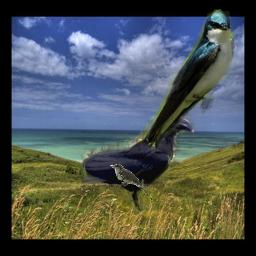Crow: (81, 110, 195, 211)
Cuckoo: (110, 164, 153, 201)
Swallow: (141, 9, 236, 153)
